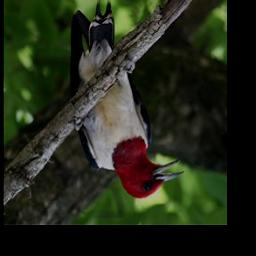Woodpecker: (65, 0, 188, 199)
